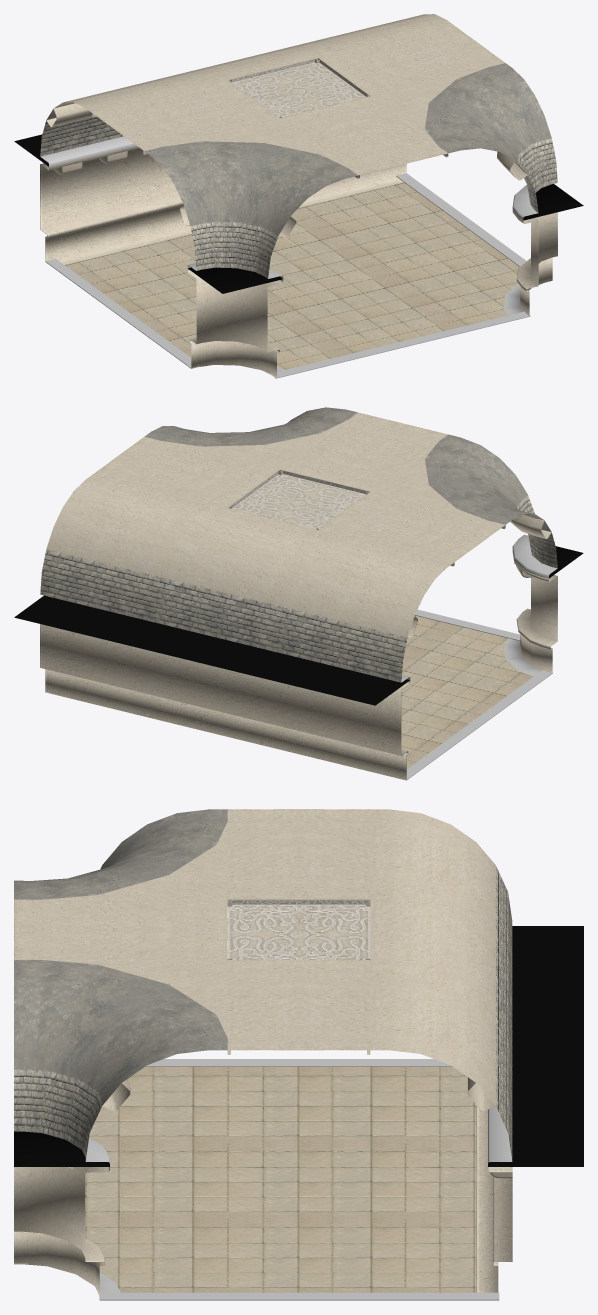
Rendered from dungeon_Tile_04_Additional.fbx.
3 views of the same model, one above another, from view 1: azimuth 30°, elevation 25°; view 2: azimuth 150°, elevation 25°; view 3: azimuth 270°, elevation 25° (orthographic). The views are drawn at different scales.
Visible parts, largest first — view 1: dungeon_Tile_04_Wall_Additional, dungeon_Tile_04_Roof_Additional; view 2: dungeon_Tile_04_Roof_Additional, dungeon_Tile_04_Wall_Additional; view 3: dungeon_Tile_04_Roof_Additional, dungeon_Tile_04_Wall_Additional.
Part boxes in pixels (x1,y1,x2,y2): dungeon_Tile_04_Wall_Additional: (14, 134, 583, 378); dungeon_Tile_04_Roof_Additional: (40, 14, 557, 278); dungeon_Tile_04_Roof_Additional: (40, 407, 557, 682); dungeon_Tile_04_Wall_Additional: (14, 546, 583, 780); dungeon_Tile_04_Roof_Additional: (14, 809, 512, 1162); dungeon_Tile_04_Wall_Additional: (14, 926, 583, 1300).
Size of the model in its own units: 120 by 58.13 by 120.
